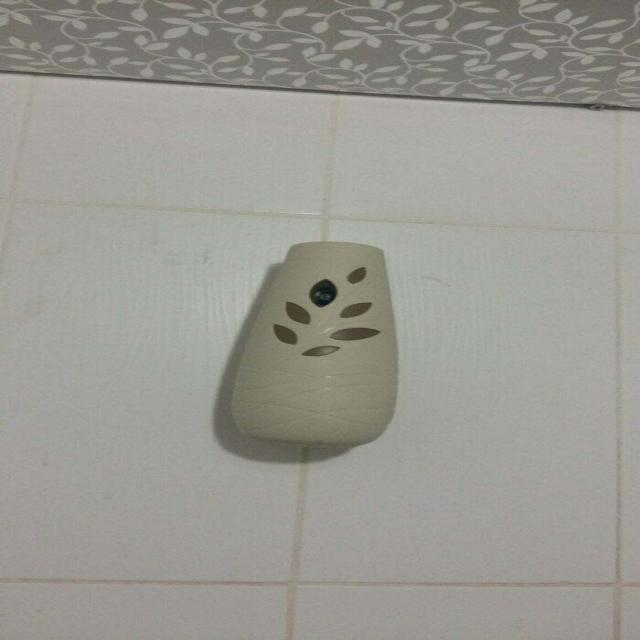hidden camera: (311, 288, 337, 305)
